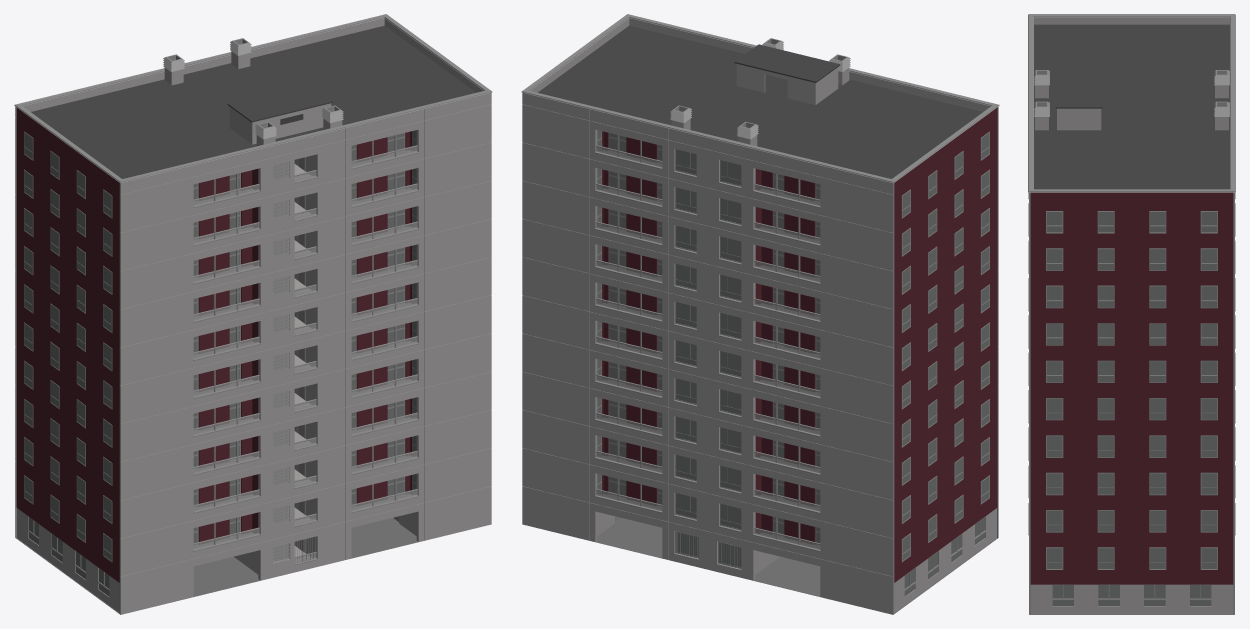
File: stefano galli.fbx
3 views of the same model, side by side, from view 1: azimuth 30°, elevation 25°; view 2: azimuth 150°, elevation 25°; view 3: azimuth 270°, elevation 25° (orthographic). The views are drawn at different scales.
Parts seen in each view (by area): view 1: appartamenti, tetto, piano terra, parapetto 0, telaio 0, pluviale 4, pluviale 0, locale tecnico, termo, parapetto 1, ascensore, pluviale 1; view 2: appartamenti, tetto, piano terra, parapetto 0, telaio 0, pluviale 4, pluviale 0, locale tecnico, finestre 0, termo, pluviale 3; view 3: appartamenti, tetto, piano terra, pluviale 0, locale tecnico, termo, pluviale 4.
Part boxes in pixels (x1,y1,x2,y2): appartamenti: (15,104,491,576); tetto: (15,18,491,194); piano terra: (15,486,491,614); parapetto 0: (193,147,417,549); telaio 0: (193,135,417,544); pluviale 4: (193,151,418,551); pluviale 0: (14,14,492,183); locale tecnico: (227,84,333,144); termo: (163,38,343,146); parapetto 1: (294,171,316,562); ascensore: (294,157,305,553); pluviale 1: (294,176,317,565); appartamenti: (522,104,998,576); tetto: (522,18,998,194); piano terra: (522,486,998,614); parapetto 0: (596,147,820,549); telaio 0: (596,135,820,544); pluviale 4: (595,151,820,551); pluviale 0: (521,14,999,183); locale tecnico: (734,44,840,104); finestre 0: (676,149,741,529); termo: (670,38,850,146); pluviale 3: (674,171,741,532); appartamenti: (1029,203,1234,577); tetto: (1029,17,1234,203); piano terra: (1029,577,1234,614); pluviale 0: (1028,14,1235,192); locale tecnico: (1055,68,1102,130); termo: (1034,70,1229,130); pluviale 4: (1028,192,1235,535).
Bounding box in the file's own units: 3062 × 1512 × 3522.
